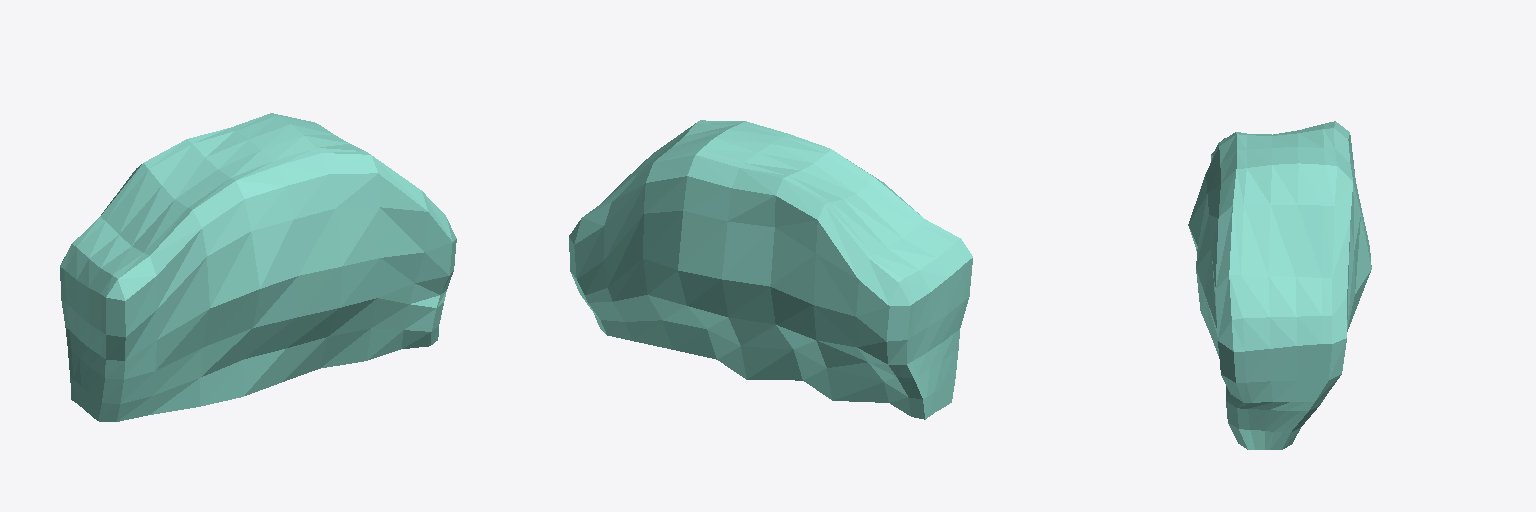
The model's file is bush2.obj.
The picture shows the model from 3 angles: view 1: azimuth 30°, elevation 25°; view 2: azimuth 150°, elevation 25°; view 3: azimuth 270°, elevation 25°; orthographic projection.
Visible parts, largest first — view 1: Box001; view 2: Box001; view 3: Box001.
Boxes of the visible parts, x1=… form: Box001: x1=60, y1=113, x2=456, y2=421; Box001: x1=569, y1=120, x2=972, y2=419; Box001: x1=1188, y1=121, x2=1371, y2=449.
Bounding box in the file's own units: 15.03 × 9.23 × 6.73.